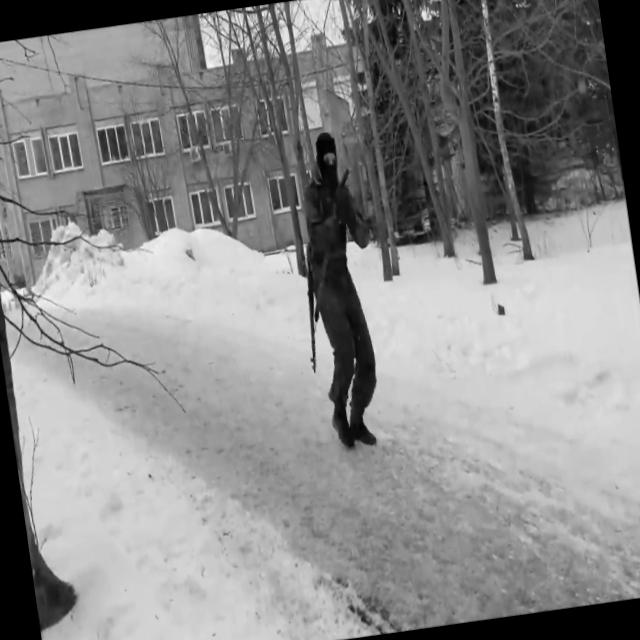gun: (294, 238, 329, 374), (330, 166, 354, 206)
person with a gun: (280, 128, 398, 453)
